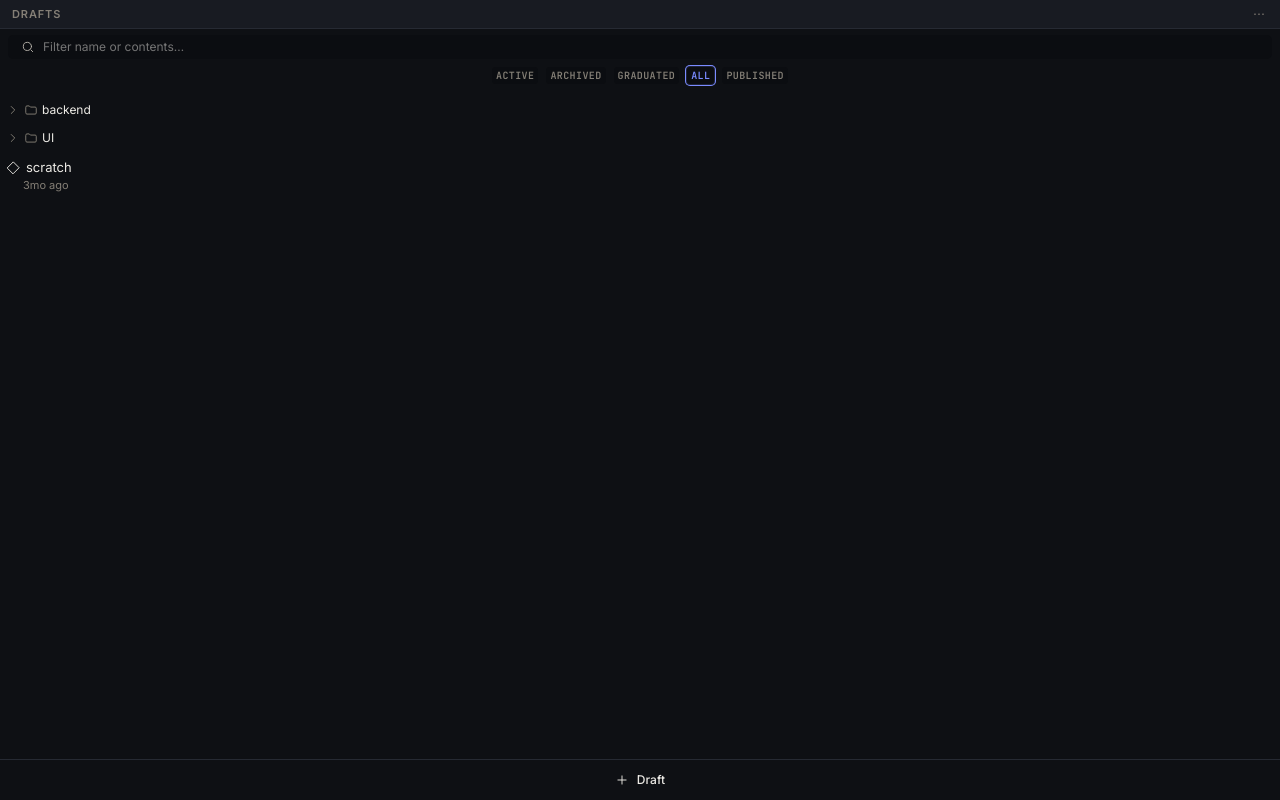
Test: Drafts panel (DRP-drafts-panel.md) › DRP-FR-31, DRP-FR-32, DRP-FR-27: a failed folder delete leaves the folder and reports against its row
This screenshot has width=1280, height=800.
Expected: the text "scratch" is shown, [26,158,72,178]
Right-click the list item with aria-label "Folder UI": (30, 138) [6,130,54,145]
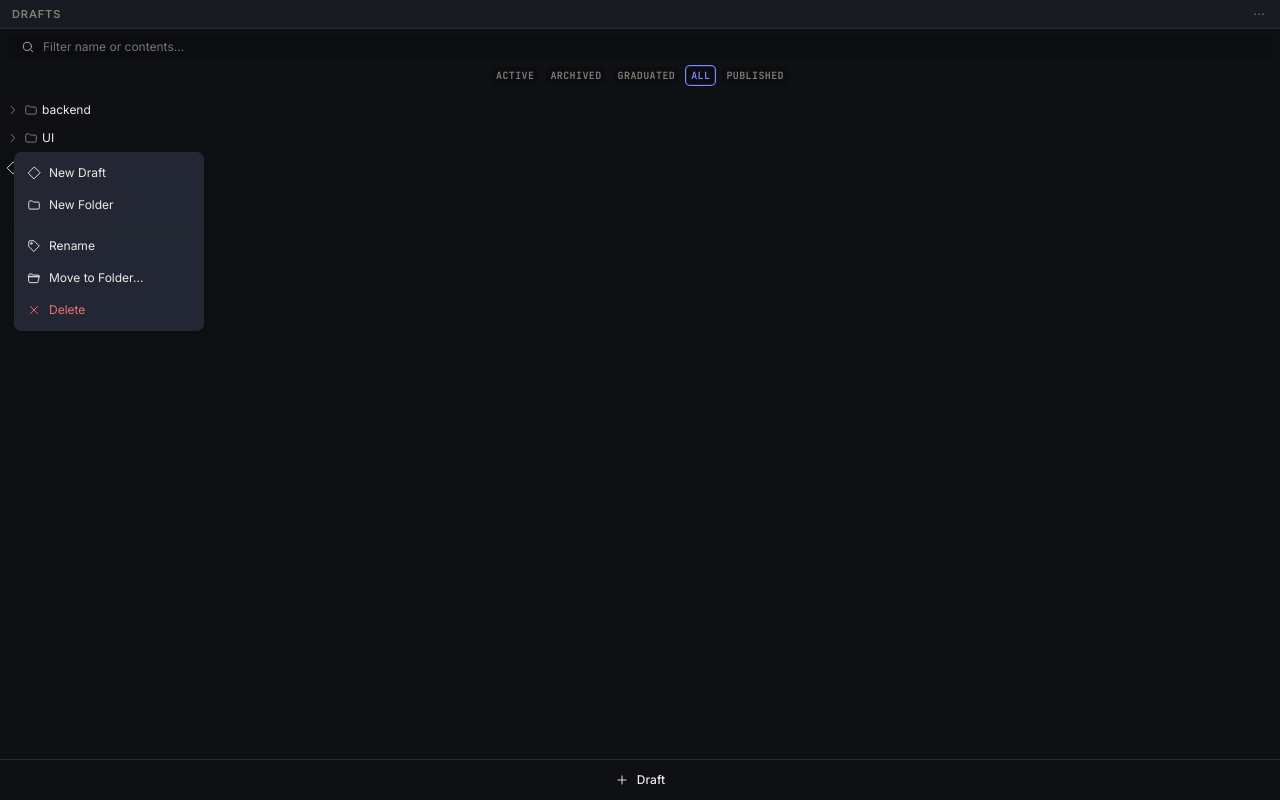
Click the menu item "Delete": (56, 310) [27,302,85,317]
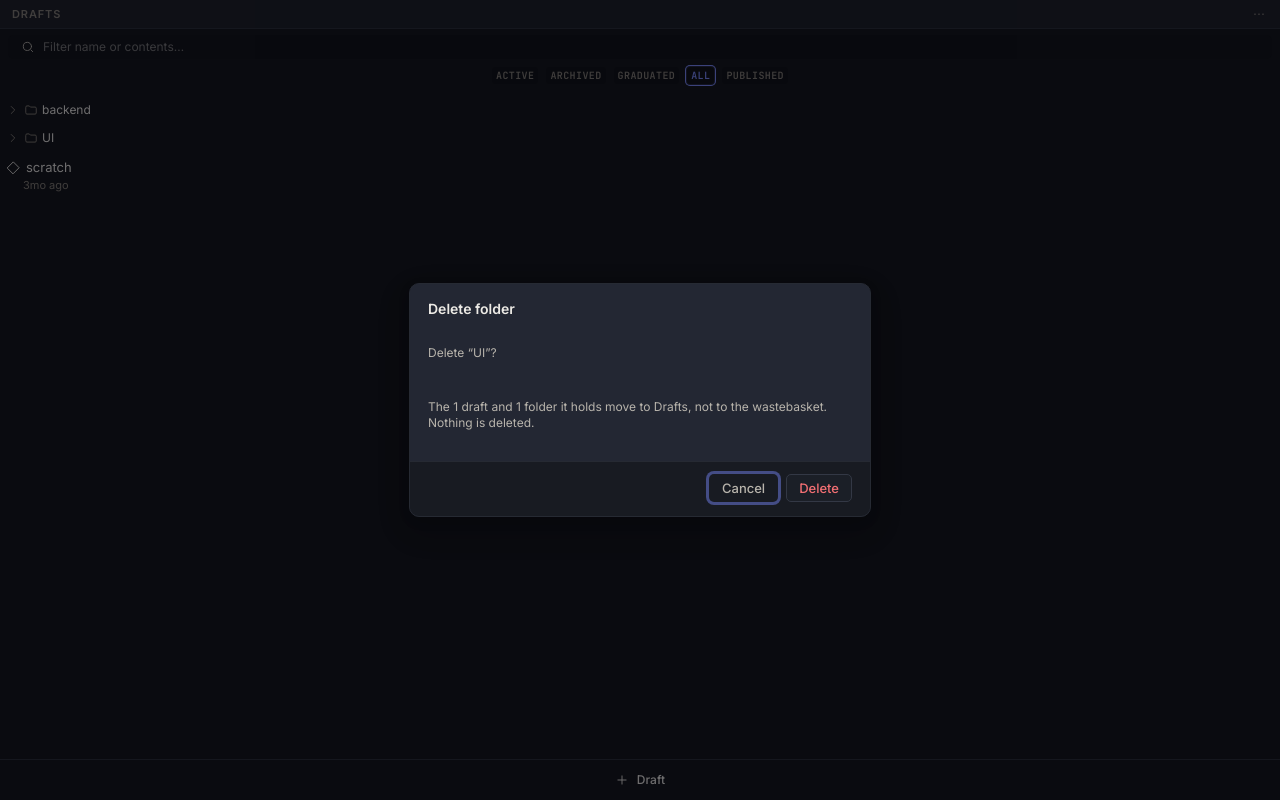
Click the button "Delete": (819, 488) [786,474,852,502]
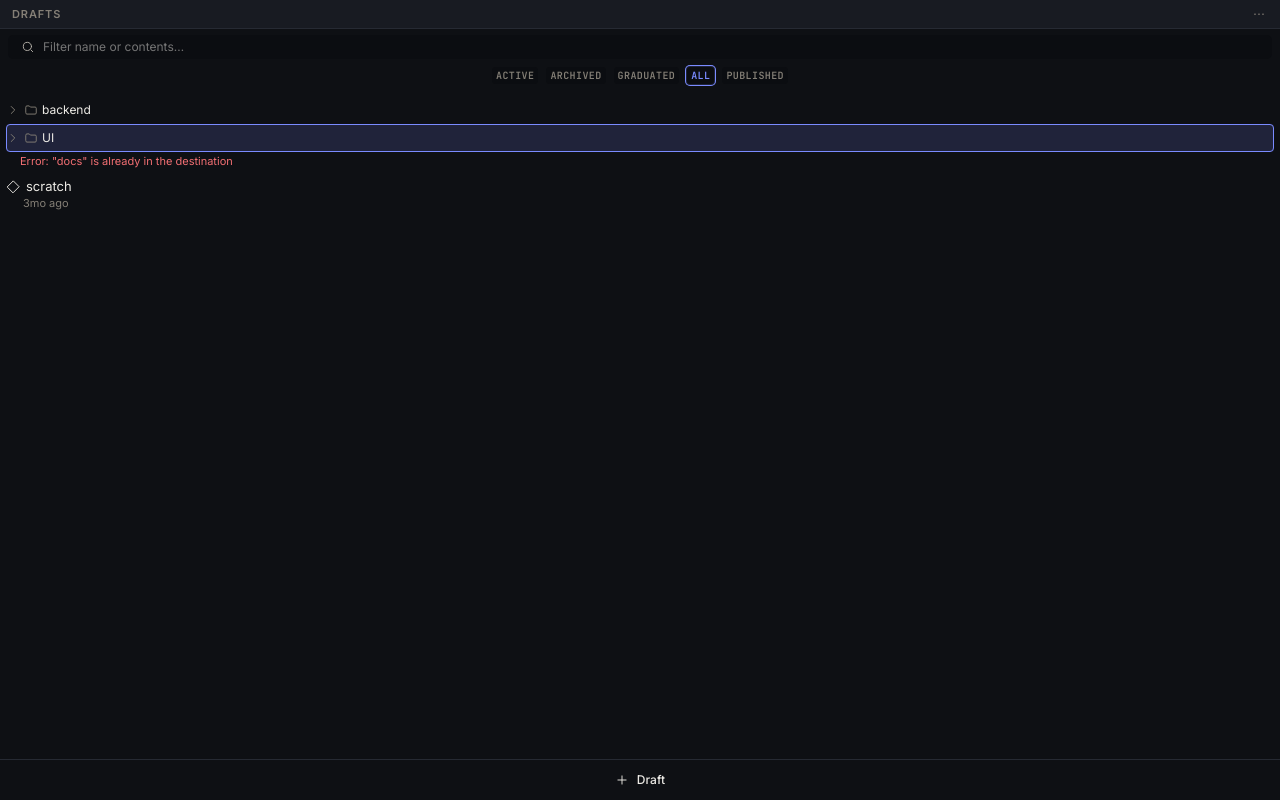
Expected: the list item with aria-label "Folder UI" is shown, [6,124,1274,152]
Now the message shows "already in the destination", box [20,154,233,168]
